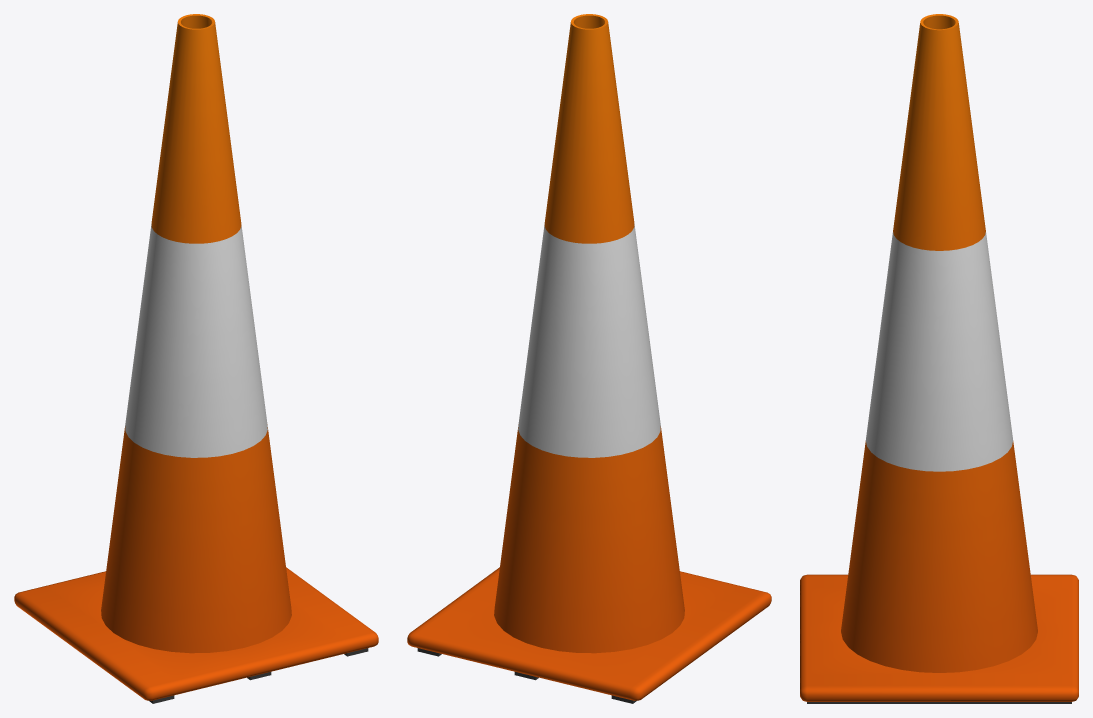
File: cone_i_large.glb
3 views of the same model, side by side, from view 1: azimuth 30°, elevation 25°; view 2: azimuth 150°, elevation 25°; view 3: azimuth 270°, elevation 25° (orthographic). The views are drawn at different scales.
Parts seen in each view (by area): view 1: cone_i_large; view 2: cone_i_large; view 3: cone_i_large.
Part boxes in pixels (bbox=[...]): cone_i_large: bbox=[14, 14, 378, 703]; cone_i_large: bbox=[407, 14, 771, 703]; cone_i_large: bbox=[800, 14, 1078, 703].
Size of the model in its own units: 0.3683 by 0.9144 by 0.3683.
1 material, 1 textured.
